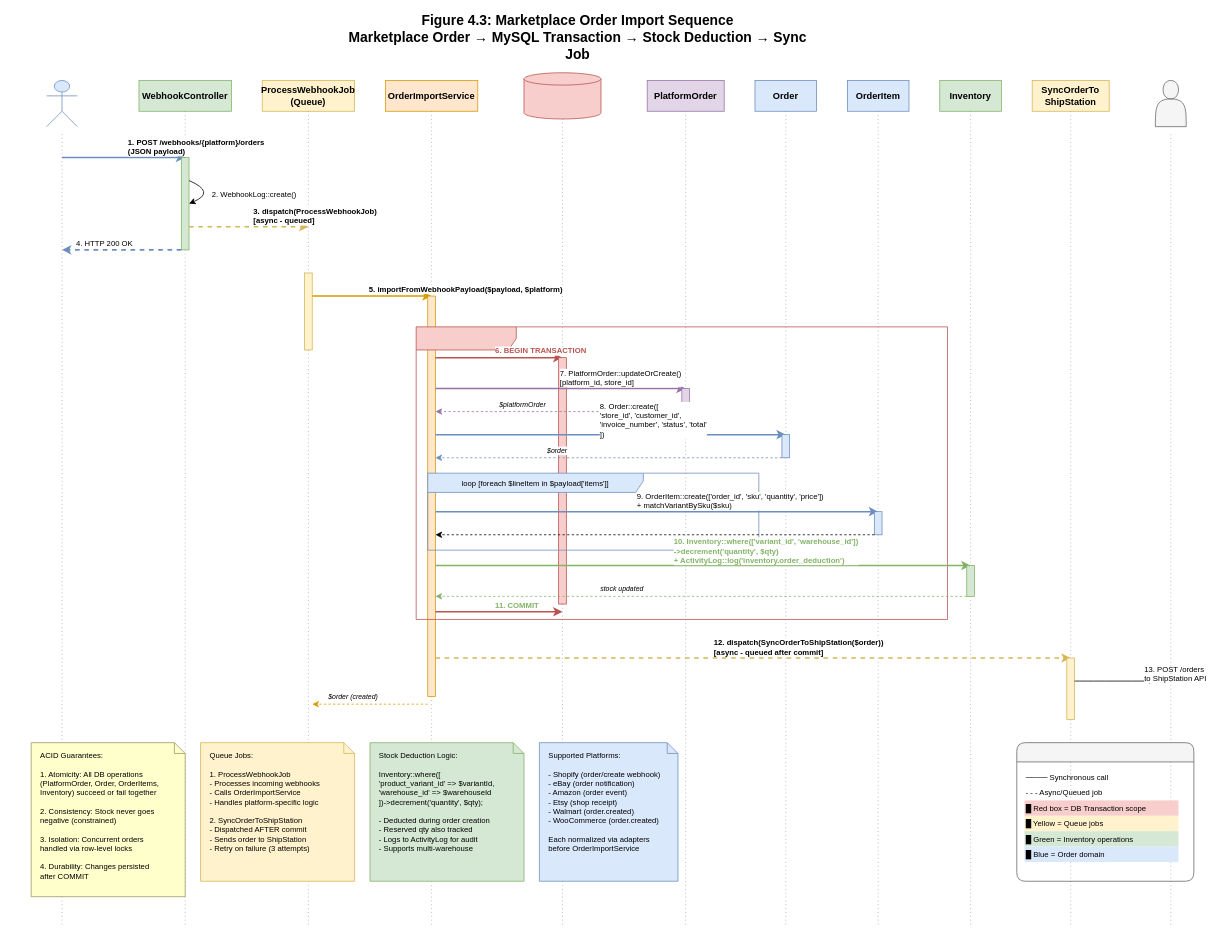
The diagram is 1220 pixels wide and 942 high, and some of its shapes have lost their labels. Here are the shapes that lost their labels. From the top down, the box of each, then its label:
(46, 80, 77, 127): Marketplace API (Shopify/eBay/Amazon)
(523, 72, 601, 119): MySQL DB::transaction()
(1155, 80, 1186, 127): ShipStation API
(415, 326, 947, 619): DB::transaction()
(1016, 742, 1194, 881): Legend
